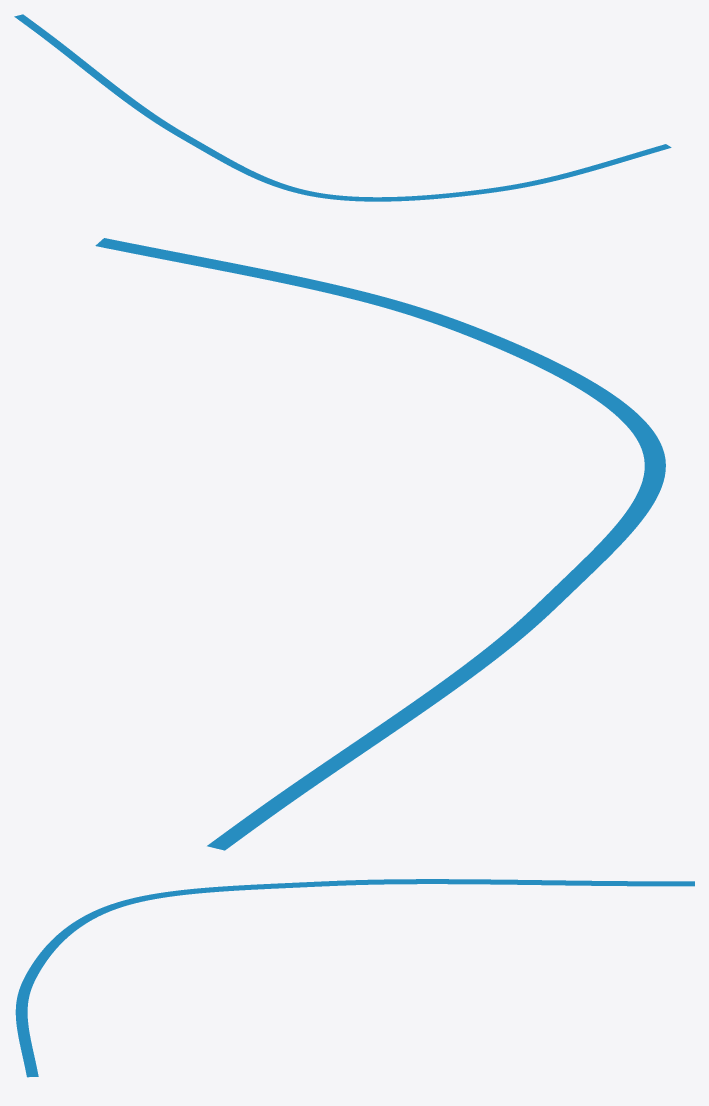
Rendered from guide.glb.
The picture shows the model from 3 angles, top to bottom: view 1: azimuth 30°, elevation 25°; view 2: azimuth 150°, elevation 25°; view 3: azimuth 270°, elevation 25°; orthographic projection. The views are drawn at different scales.
Visible parts, largest first — view 1: static; view 2: static; view 3: static.
Part boxes in pixels (x1=…): static: x1=14, y1=14, x2=671, y2=201; static: x1=95, y1=238, x2=665, y2=850; static: x1=15, y1=879, x2=694, y2=1077.
Size of the model in its own units: 13.6 by 0 by 18.4.
